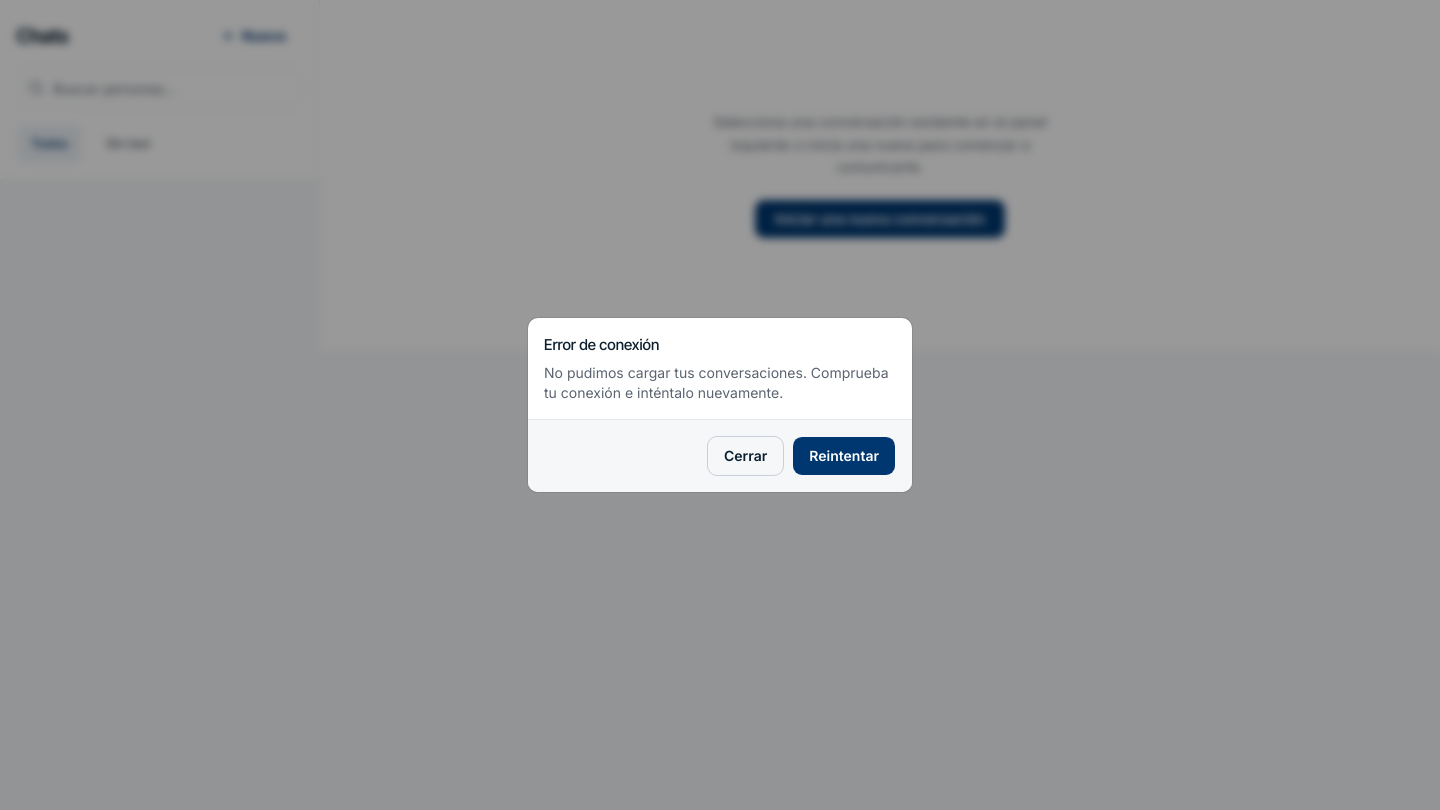
Test: Estados del chat › muestra carga, error y permite recuperar la lista sin mostrar un falso vacío
Check: the dialog shows "No pudimos cargar tus conversaciones", box [544,364,889,401]
Click the button "Reintentar": x=844, y=456 [792,436,896,476]
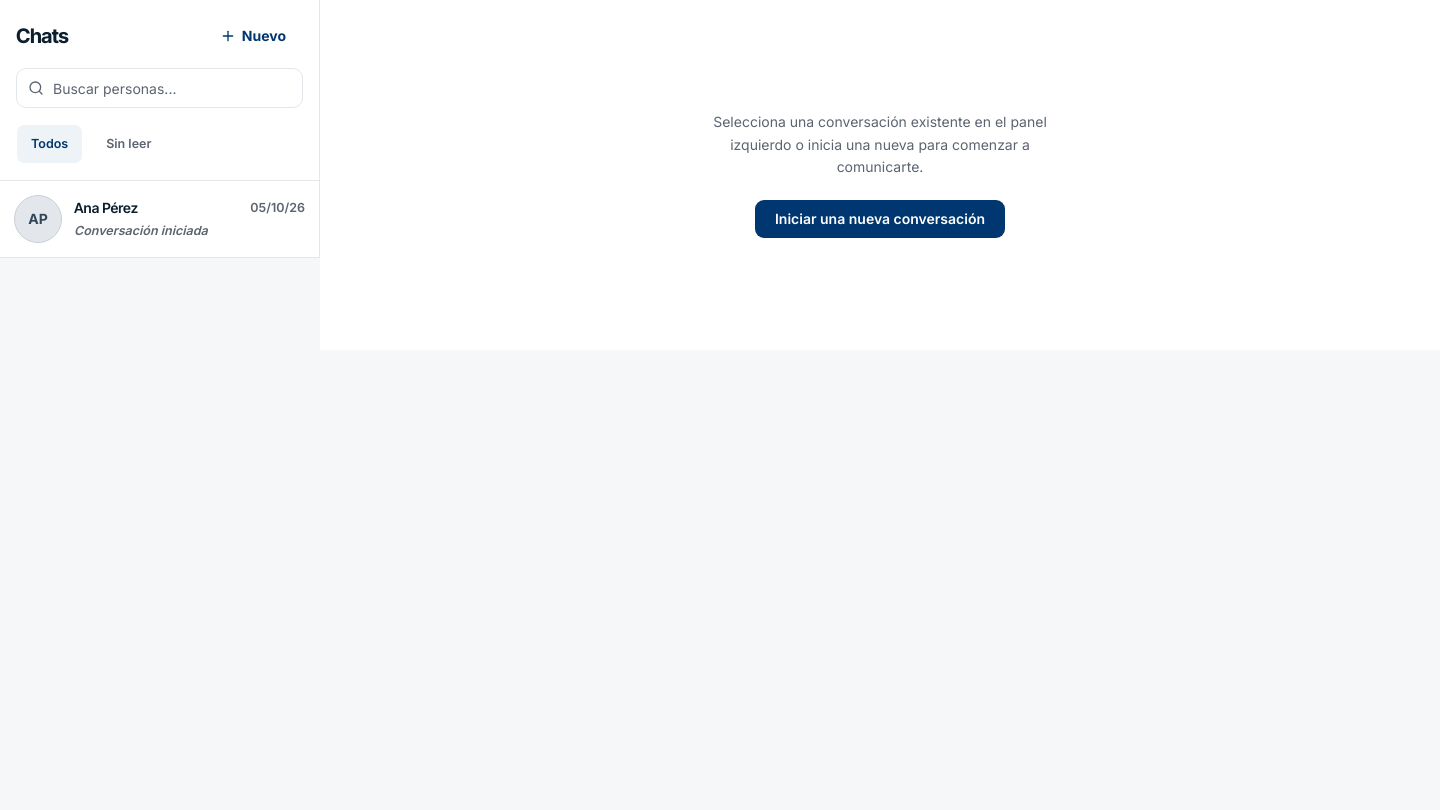
Check: the heading "Ana Pérez" is shown, box [74,198,138,218]
Check: the dialog is gone
